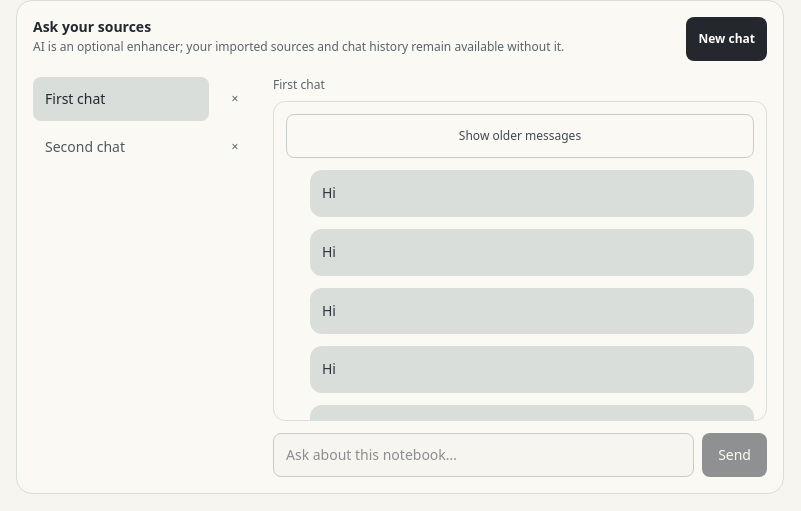
recovers older-message loading after switching away from a pending request
This screenshot has width=801, height=511.
Click the button "Show older messages": (520, 136) [286, 114, 754, 158]
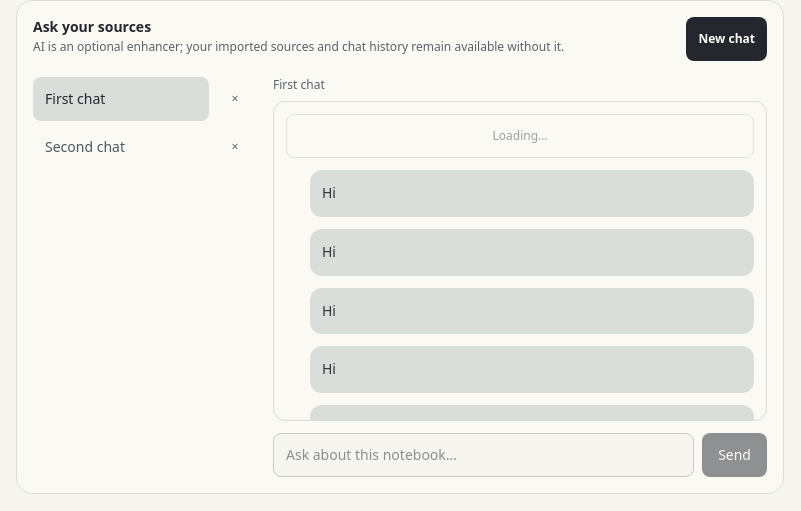
Click the button "Second chat": (121, 147) [33, 125, 209, 169]
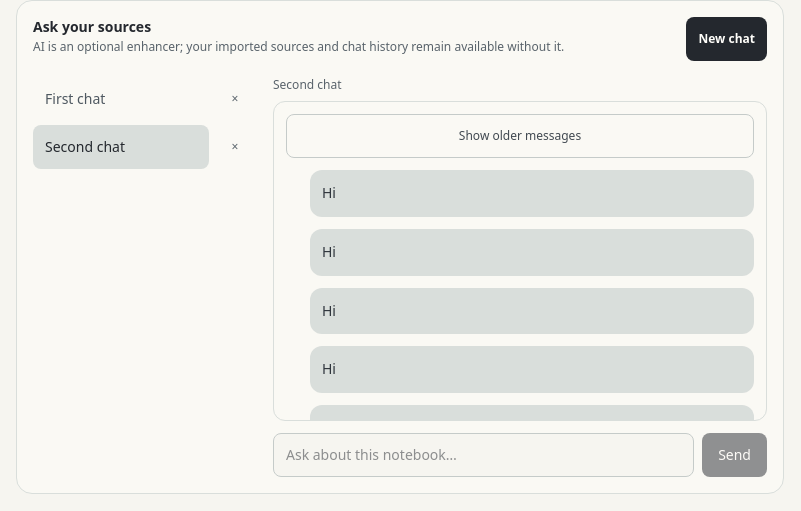
Now the button "Show older messages" is enabled, box [286, 114, 754, 158]
